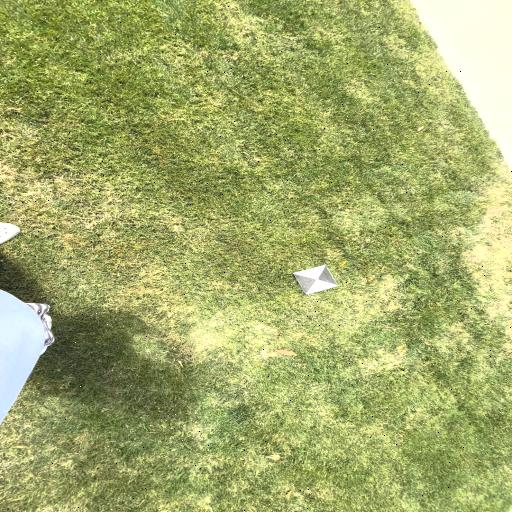target: (293, 265, 338, 295)
